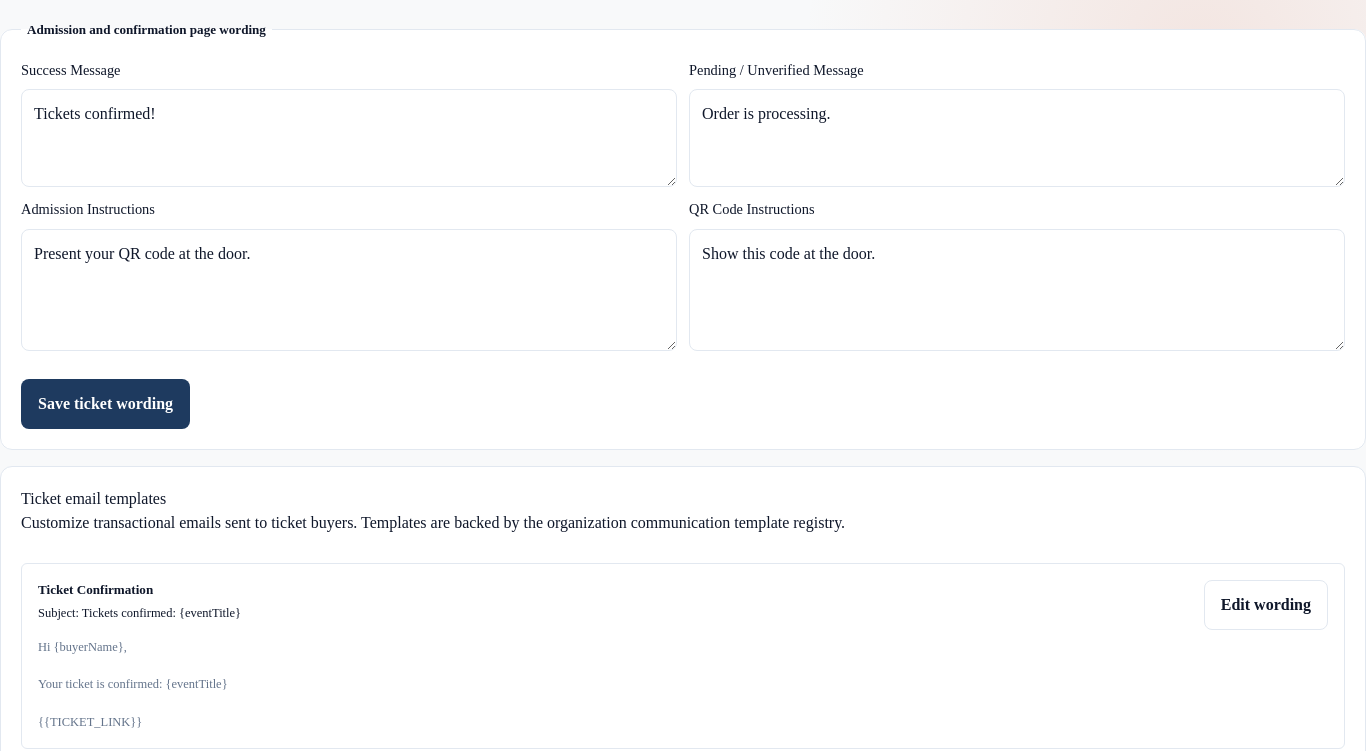
Test: ConfirmationPanel › resets a ticket system template and immediately updates the Ticketing view
The width and height of the screenshot is (1366, 751).
Expected: the heading "Ticket Confirmation" is shown, [38, 582, 153, 597]
What coordinates should you click on to do the following:
click the button "Edit wording"
I would click on:
 (1266, 605)
Its box is [1204, 580, 1328, 630].
(page scrolled)
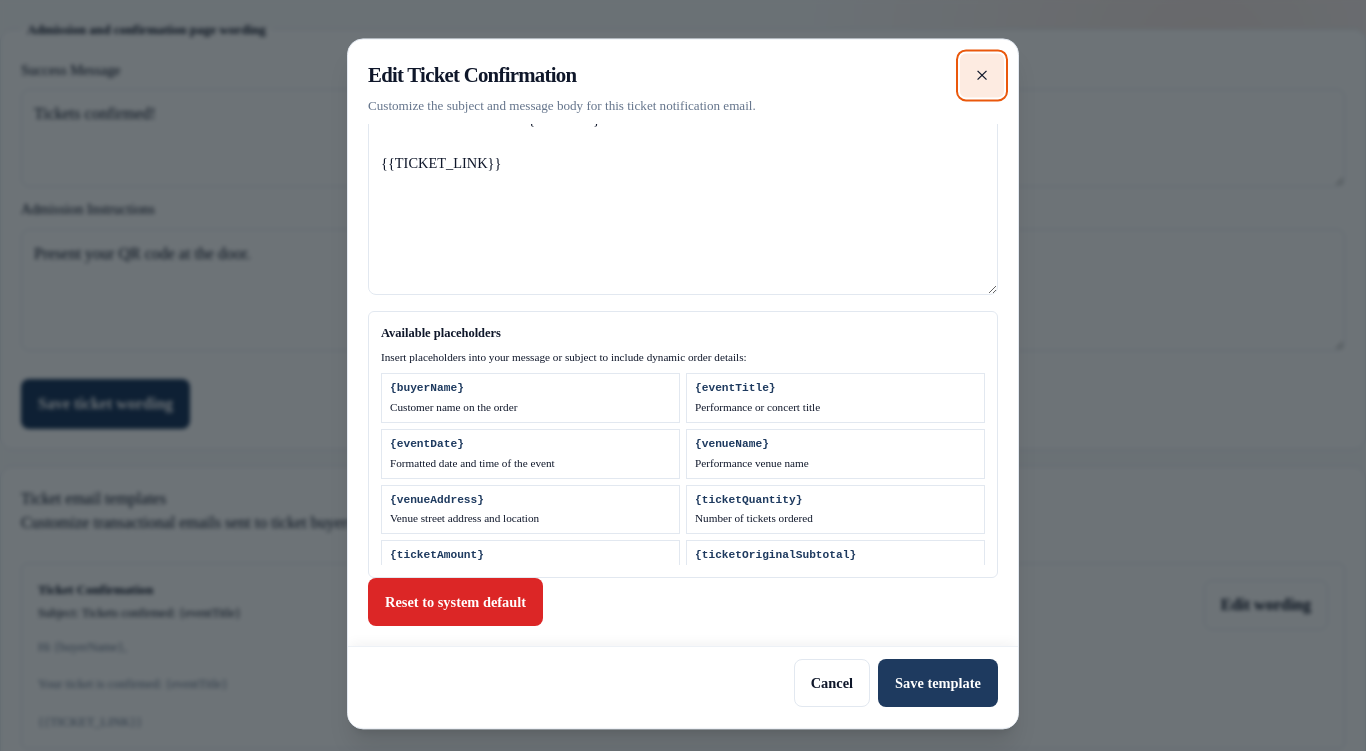
Expected: the button "Reset to system default" is shown
What coordinates should you click on to do the following:
click the button "Reset to system default"
I would click on:
 (456, 603)
Its box is [368, 579, 543, 627].
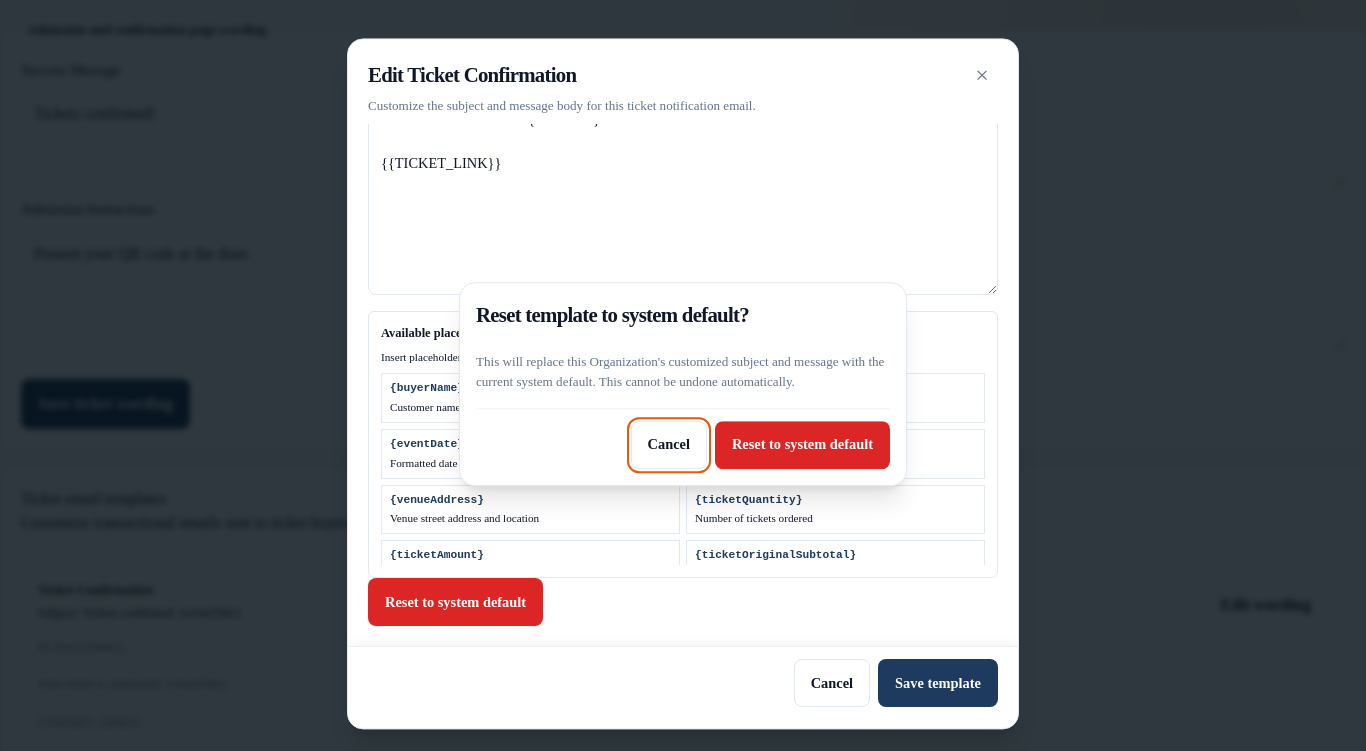
Expected: the dialog "Reset template to system default?" shows "This will replace this Organization's customized subject and message with the current system default.", [476, 354, 884, 389]
What coordinates should you click on to do the following:
click the button "Cancel"
I would click on:
 (669, 445)
Its box is [630, 421, 707, 469].
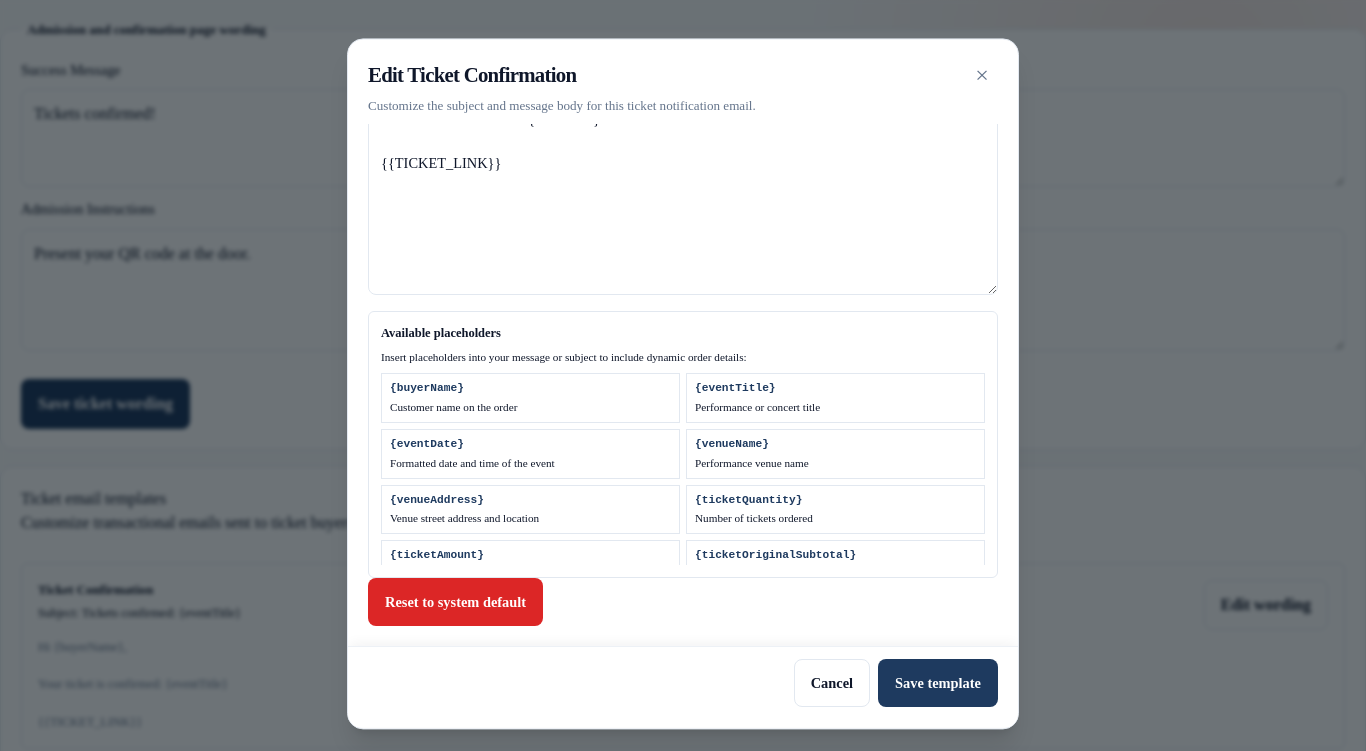
What coordinates should you click on to do the following:
click the button "Reset to system default"
I would click on:
 (456, 603)
Its box is [368, 579, 543, 627].
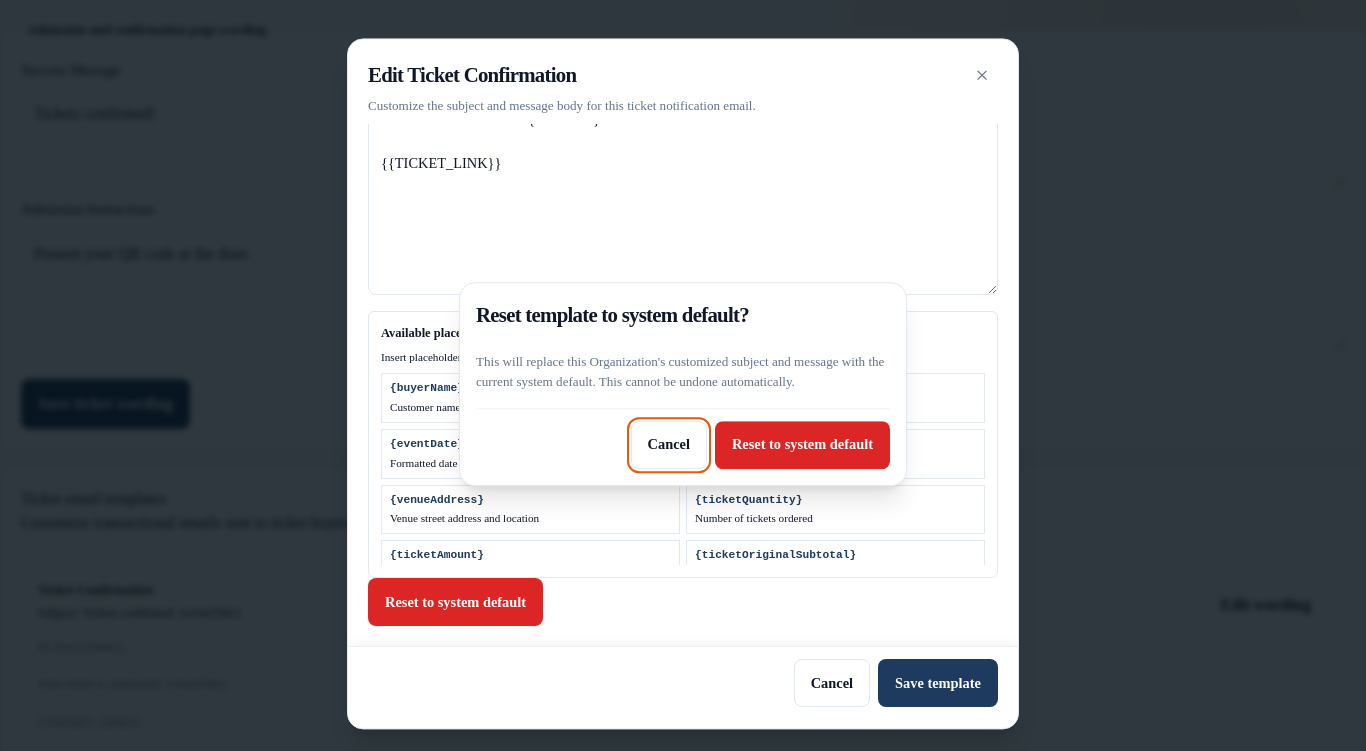
What coordinates should you click on to do the following:
click the button "Reset to system default"
I would click on:
 (802, 445)
Its box is [715, 421, 890, 469].
(page scrolled)
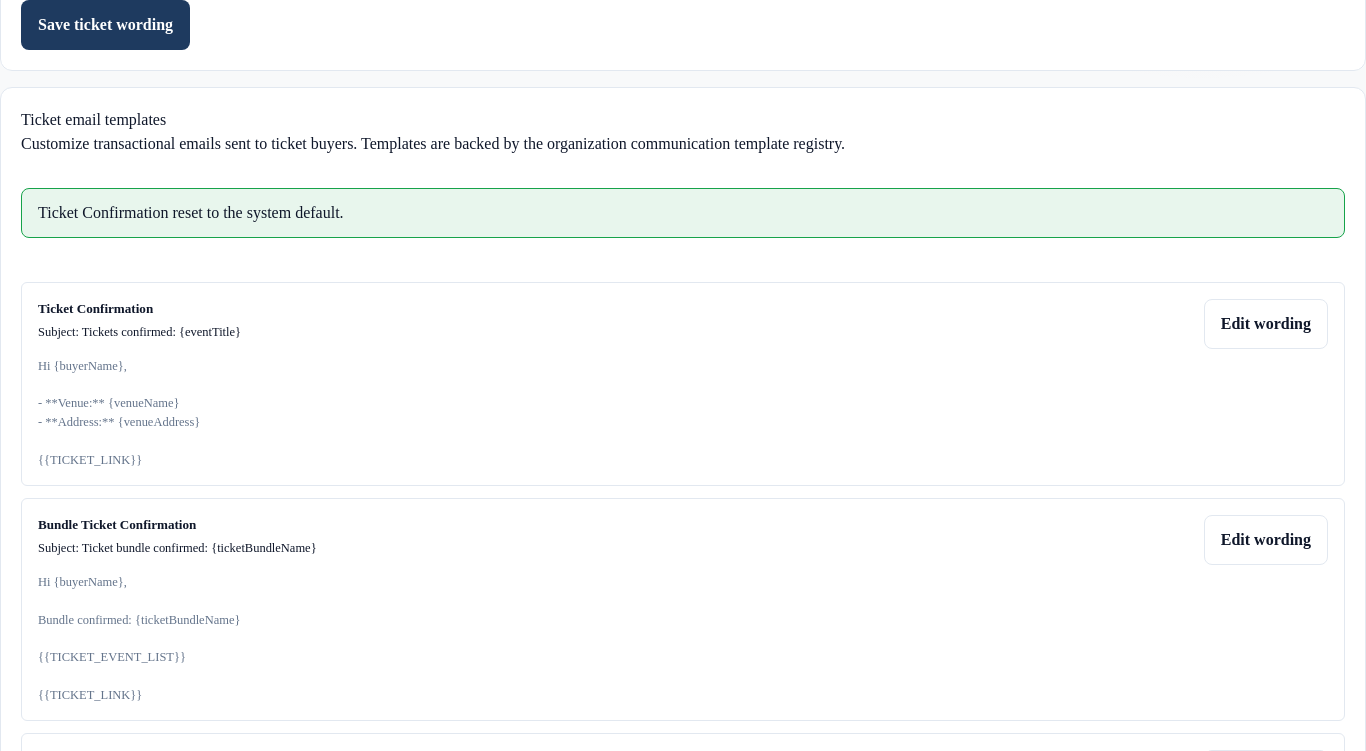
Expected: the heading "Edit Ticket Confirmation" is gone
Expected: the message reads "Ticket Confirmation reset to the system default.", [38, 204, 344, 221]
Expected: the element that starts with "Ticket Confirmation" shows "**Venue:** {venueName}", [38, 359, 200, 466]
